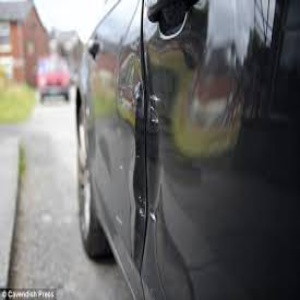door: (98, 54, 182, 140)
